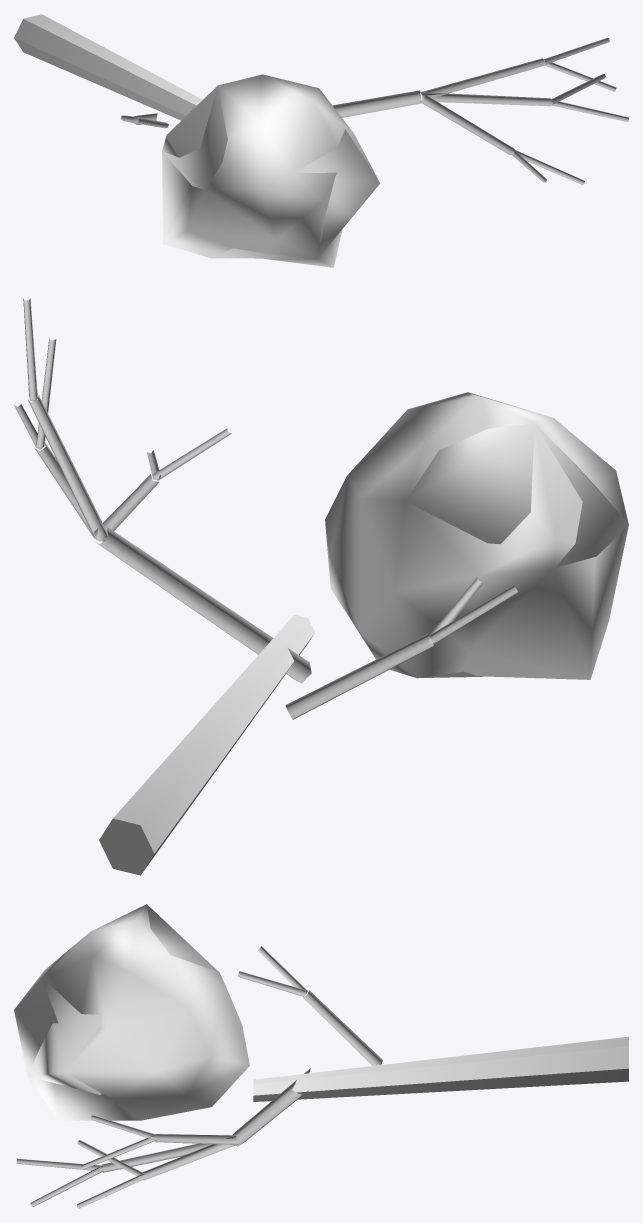
File: SM_Sakura_Solo.glb
3 views of the same model, one above another, from view 1: azimuth 30°, elevation 25°; view 2: azimuth 150°, elevation 25°; view 3: azimuth 270°, elevation 25° (orthographic). The views are drawn at different scales.
Visible parts, largest first — view 1: asset_sakura_solo; view 2: asset_sakura_solo; view 3: asset_sakura_solo.
Boxes of the visible parts, x1=… form: asset_sakura_solo: x1=14, y1=14, x2=628, y2=267; asset_sakura_solo: x1=14, y1=298, x2=628, y2=875; asset_sakura_solo: x1=14, y1=904, x2=628, y2=1208.
Size of the model in its own units: 4.13 by 1.72 by 4.91.
2 materials, 2 textured.
